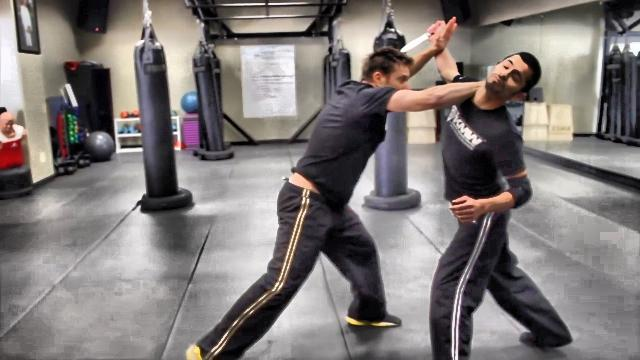knife: (397, 18, 448, 54)
